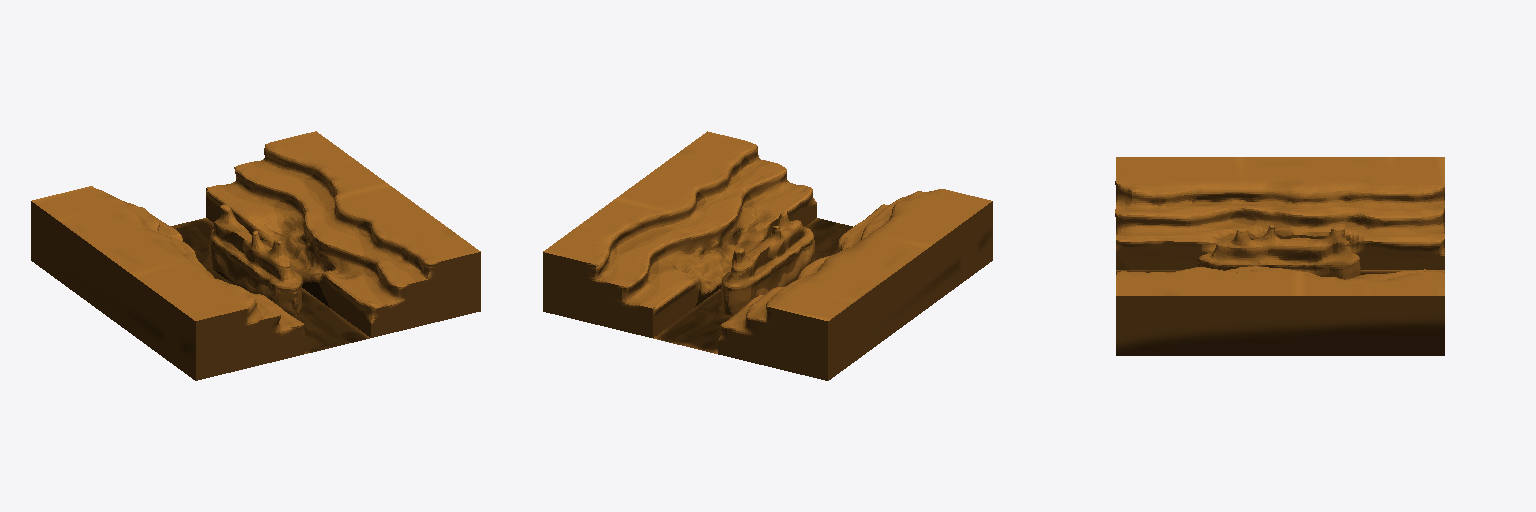
The picture shows the model from 3 angles: view 1: azimuth 30°, elevation 25°; view 2: azimuth 150°, elevation 25°; view 3: azimuth 270°, elevation 25°; orthographic projection.
Parts seen in each view (by area): view 1: DesertPathDivide; view 2: DesertPathDivide; view 3: DesertPathDivide.
Boxes of the visible parts, x1=… form: DesertPathDivide: x1=31, y1=131, x2=480, y2=380; DesertPathDivide: x1=543, y1=131, x2=992, y2=380; DesertPathDivide: x1=1115, y1=157, x2=1444, y2=355.
Size of the model in its own units: 300 by 60.41 by 301.
1 materials, 1 textured.